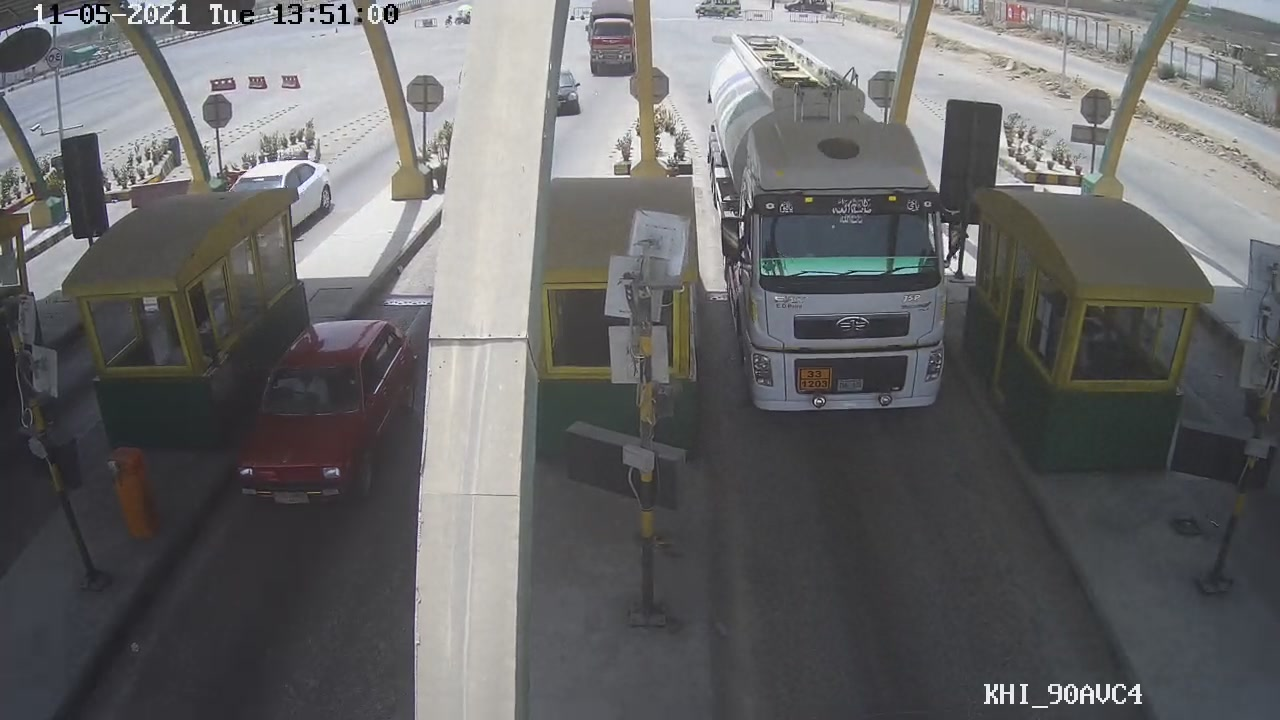F6: (704, 92, 946, 422)
